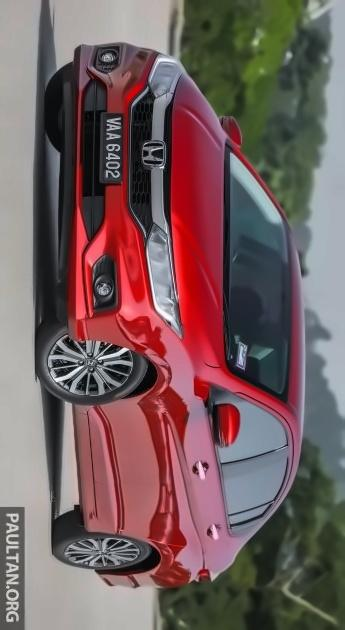Car hood: (164, 71, 236, 375)
Fender - -F-L-: (55, 325, 223, 414)
Front bumper: (54, 39, 162, 356)
Headlight - -L-: (146, 219, 181, 334)
Headlight - -R-: (146, 48, 190, 100)
Passenger-s door - -F-L-: (72, 371, 306, 489)
Passenger-s door - -R-L-: (66, 454, 309, 556)
Side bumper - -L-: (58, 394, 132, 543)
Side mirror - -L-: (198, 386, 243, 449)
